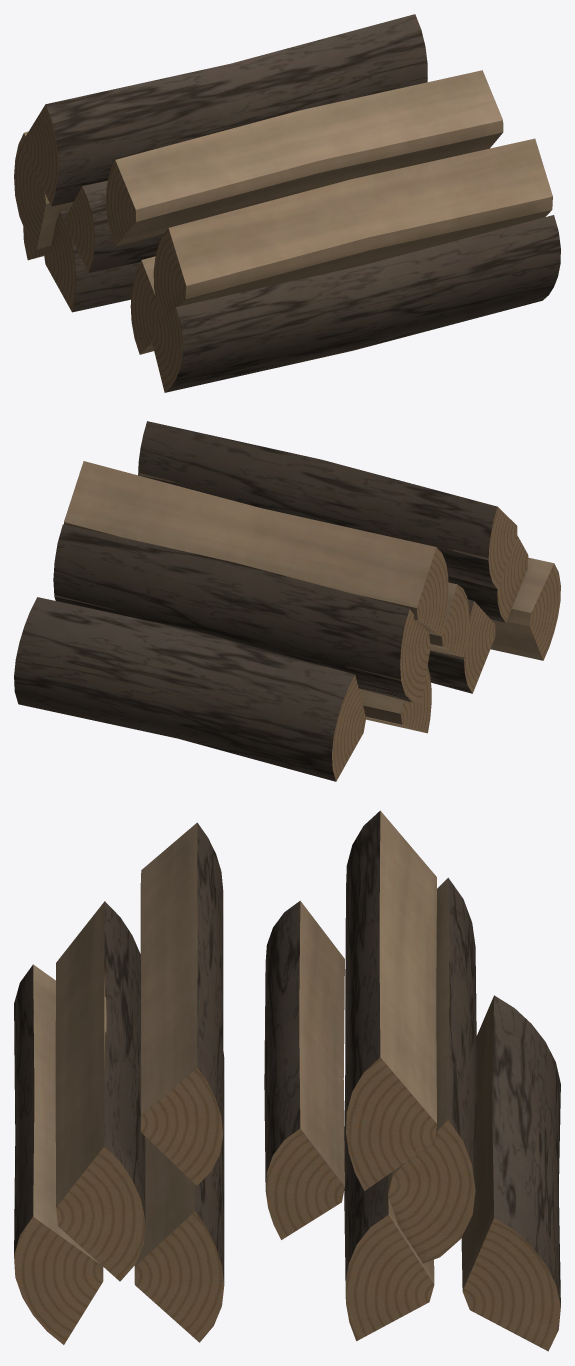
File: woodpile.glb
3 views of the same model, one above another, from view 1: azimuth 30°, elevation 25°; view 2: azimuth 150°, elevation 25°; view 3: azimuth 270°, elevation 25° (orthographic). The views are drawn at different scales.
Visible parts, largest first — view 1: Pile; view 2: Pile; view 3: Pile.
Part boxes in pixels (<box>): Pile: <box>14,14,560,392</box>; Pile: <box>14,421,560,781</box>; Pile: <box>14,810,560,1351</box>.
Bounding box in the file's own units: 0.5644 × 0.2936 × 0.5026.
1 material, 1 textured.
